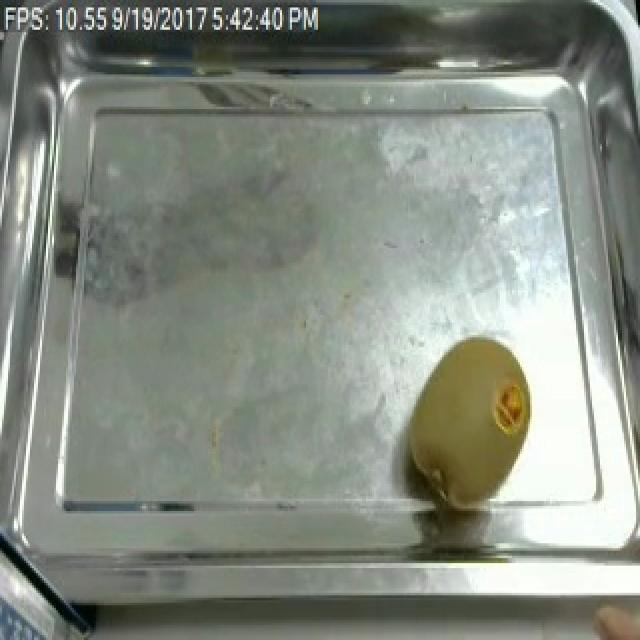Fruit: (400, 330, 542, 503)
